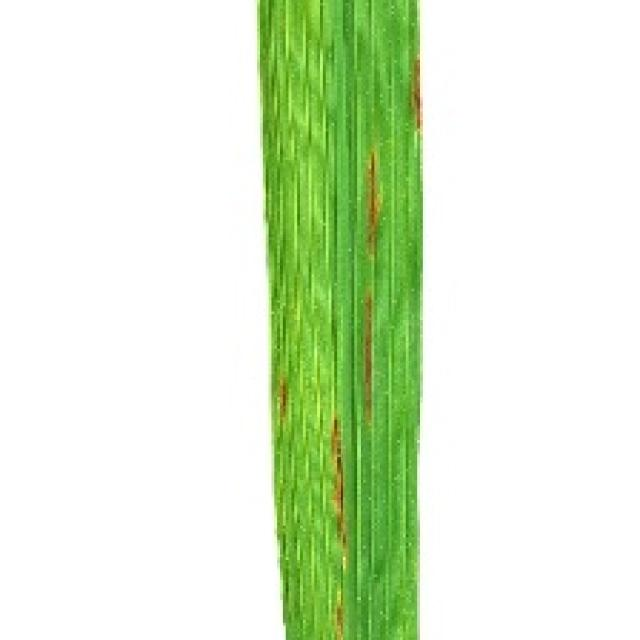Unhealthy: (330, 416, 346, 549), (365, 152, 381, 255), (364, 290, 371, 426), (414, 60, 420, 129), (336, 599, 344, 640), (280, 379, 287, 421)
